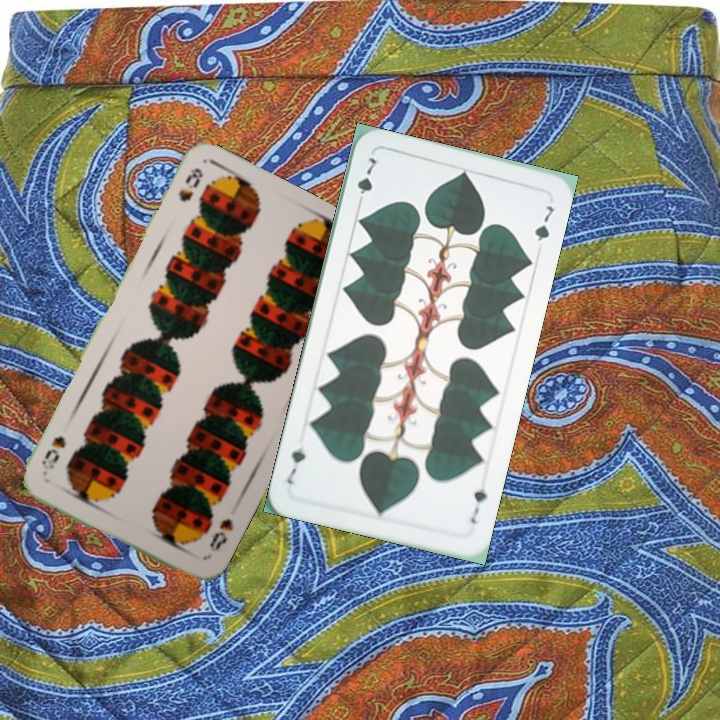G7: (352, 153, 379, 210), (466, 484, 489, 526)
S8: (174, 163, 206, 205), (205, 514, 236, 555)
